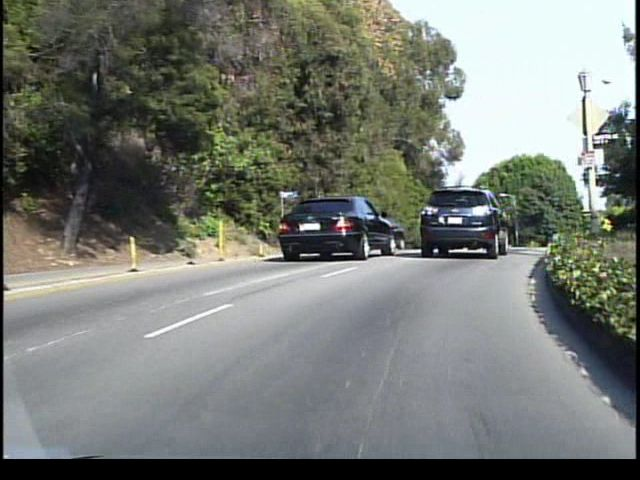car: (415, 179, 516, 261), (272, 196, 397, 261)
strada: (7, 277, 640, 460)
